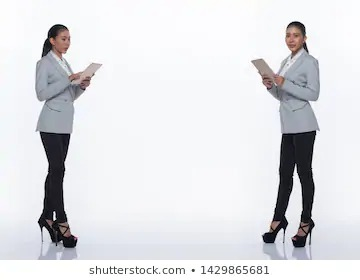F_W_pants: (272, 124, 325, 224), (36, 125, 76, 224)
F_W_suit jacket: (29, 48, 81, 138), (273, 52, 322, 136)
